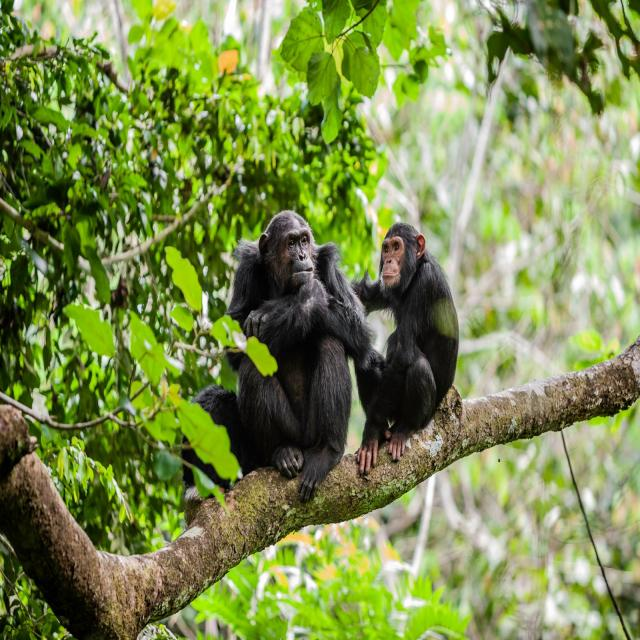Chimpanzee: (358, 224, 457, 470)
